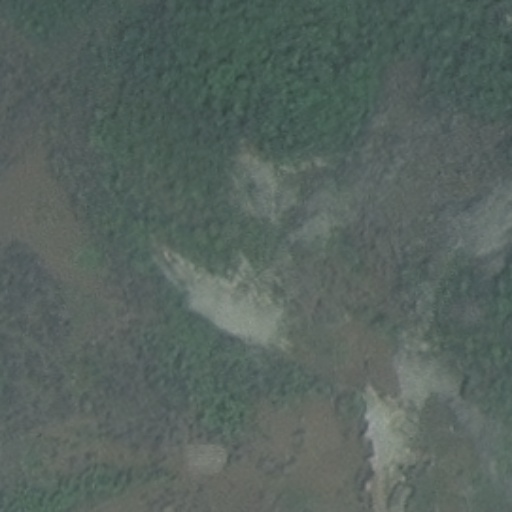landslide: (148, 248, 296, 348)
